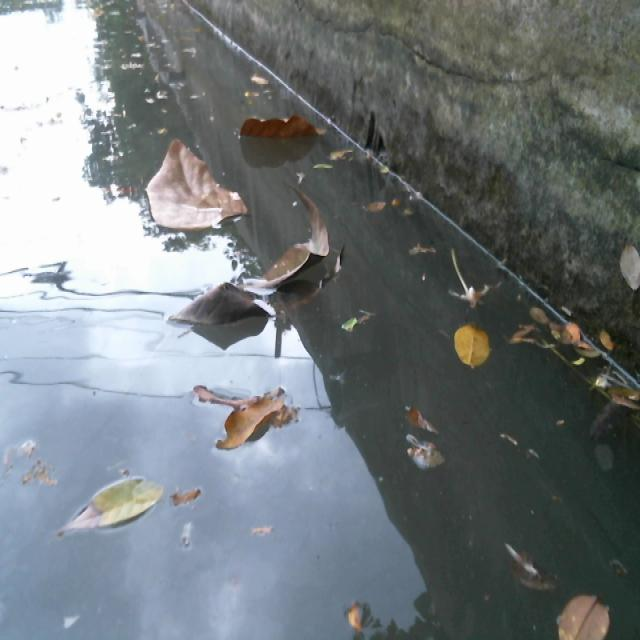Big-leaf: (163, 191, 345, 343), (182, 359, 303, 457), (136, 141, 249, 237), (237, 110, 334, 147)
Small-leaf: (55, 477, 175, 537), (551, 584, 617, 640), (449, 319, 490, 384), (304, 157, 352, 189), (404, 438, 445, 474), (554, 317, 586, 363), (405, 398, 440, 436), (595, 329, 618, 361), (358, 194, 388, 217), (328, 141, 358, 161), (251, 69, 272, 86)
